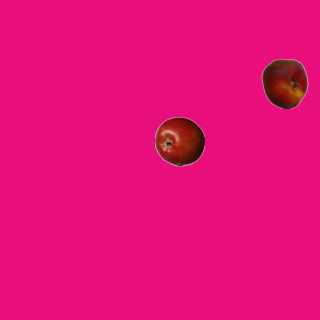Apple Braeburn: (154, 116, 204, 166)
Nectarine Flat: (259, 58, 309, 108)
